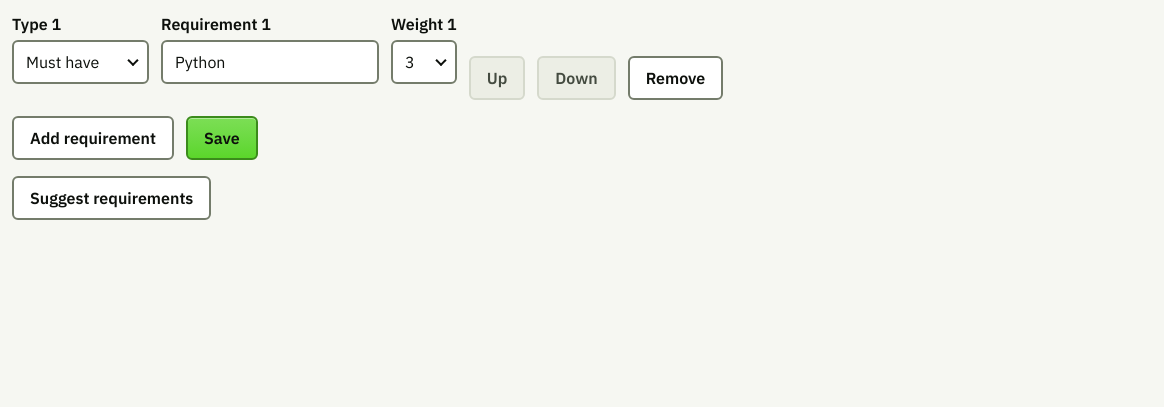
requirement editor › suggestions are added to the editor, not saved
Expected: the field showing "Python" is shown, [161,40,379,84]
Click the button "Suggest requirements".
click(112, 198)  # box [12,176,211,220]
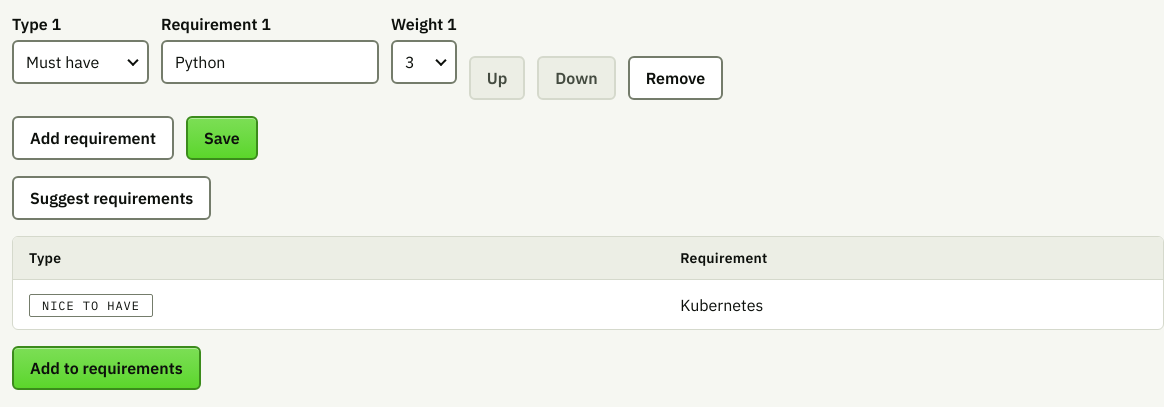
Click the button "Add to requirements".
click(106, 368)  # box [12,346,201,390]
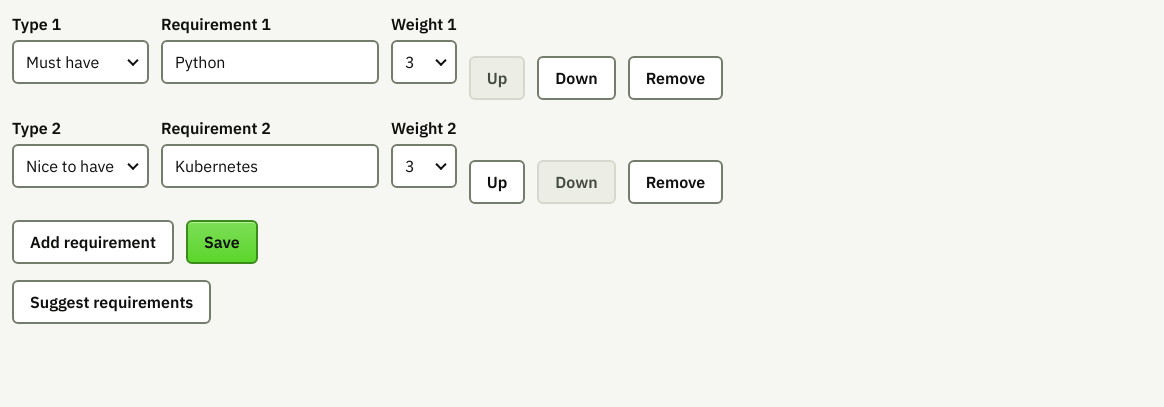
Expected: the dropdown labelled "Type 2" shows "Nice to have", [12,144,149,188]
